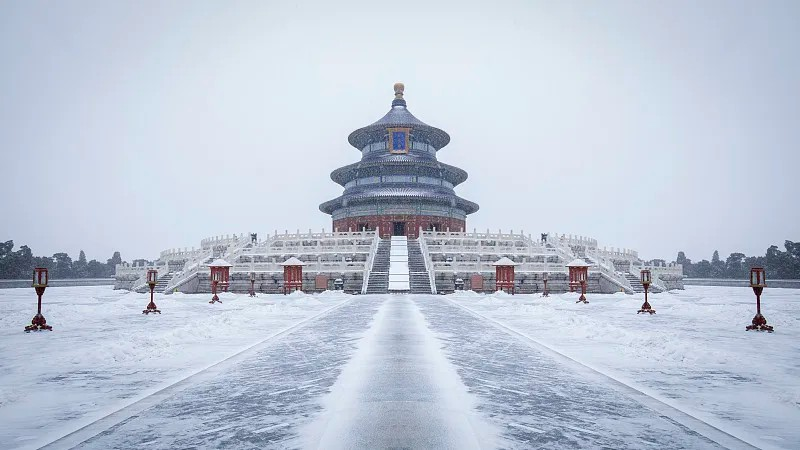Heaven: (317, 83, 479, 239)
